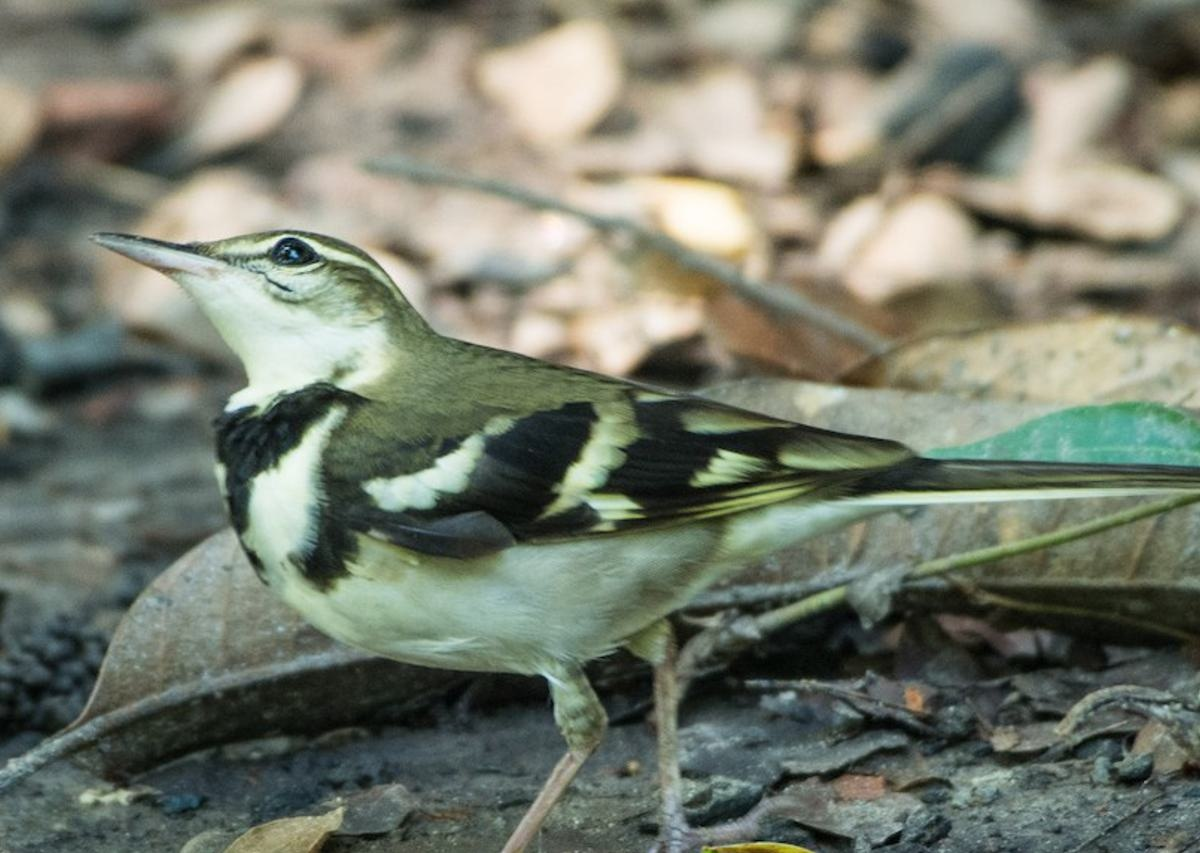wagtail: (65, 184, 831, 762)
